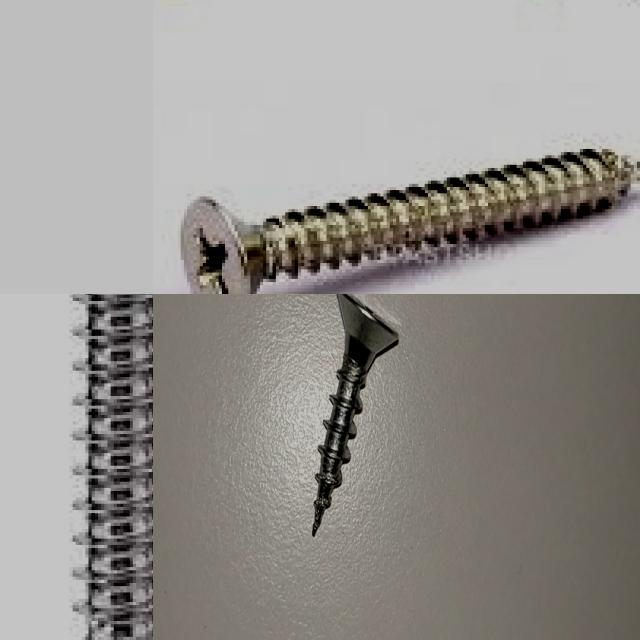Screw: (181, 149, 640, 294), (69, 294, 153, 640), (312, 294, 399, 535)
